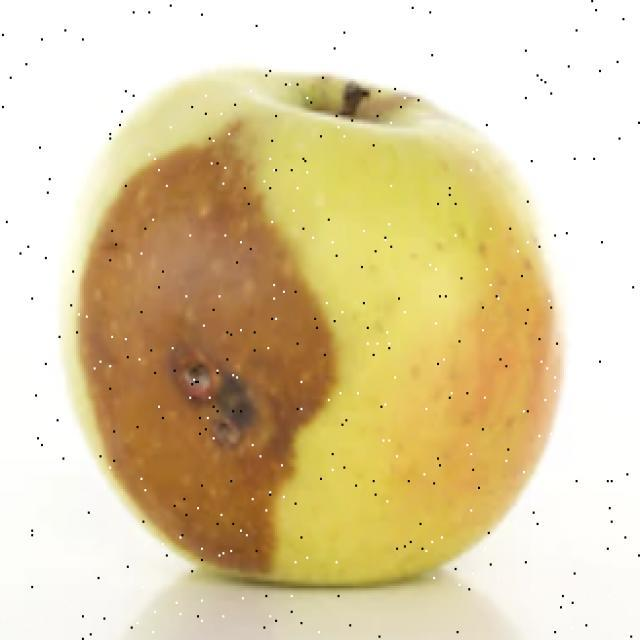Rotten: (82, 75, 555, 582)
